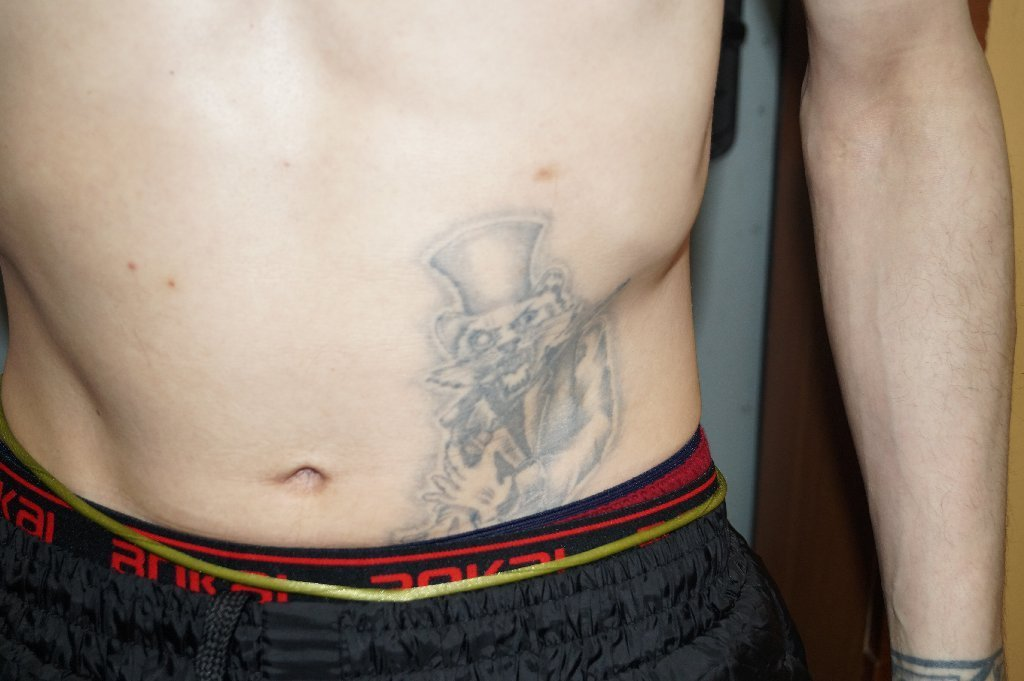tatu8_kot: (380, 202, 642, 518)
